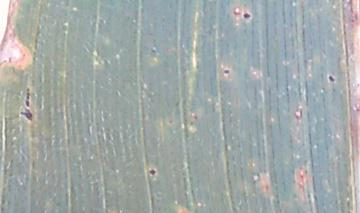tarspot: (19, 109, 36, 122), (326, 73, 337, 83), (147, 167, 158, 176), (243, 11, 251, 22), (222, 68, 230, 75), (23, 99, 30, 107), (25, 87, 30, 92), (24, 95, 30, 98), (25, 92, 30, 95)
